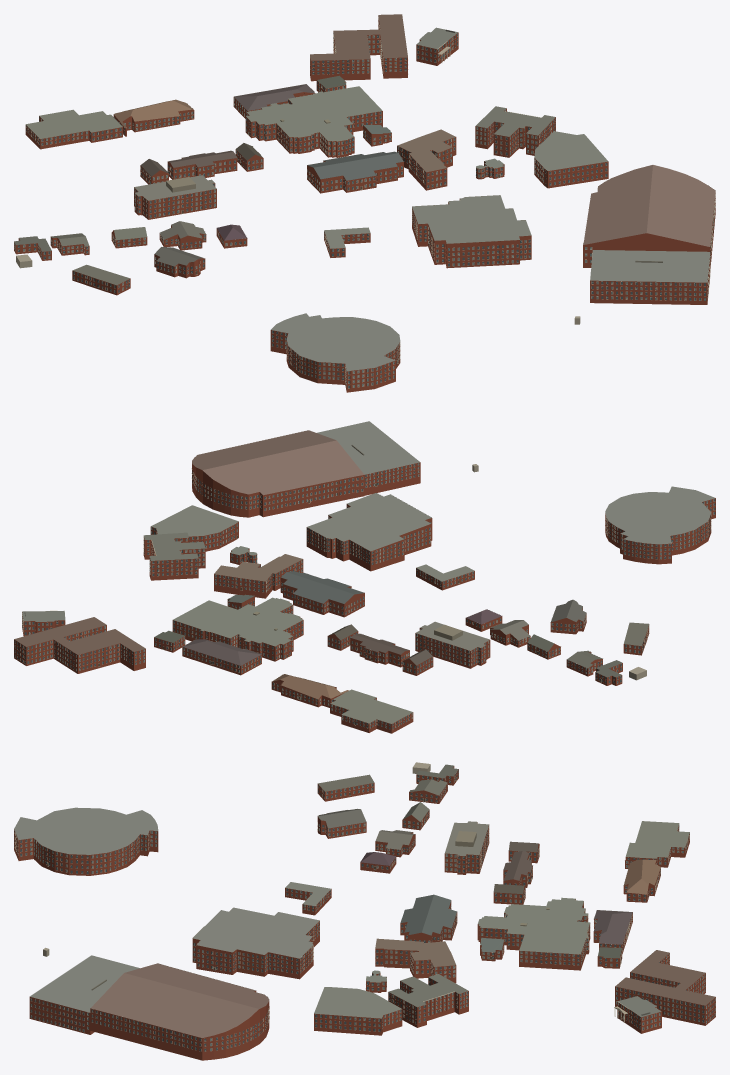
3 renders of one model, top to bottom at view 1: azimuth 30°, elevation 25°; view 2: azimuth 150°, elevation 25°; view 3: azimuth 270°, elevation 25°, orthographic. The views are drawn at different scales.
Parts seen in each view (by area): view 1: -4_0_135662222_0; view 2: -4_0_135662222_0; view 3: -4_0_135662222_0.
Boxes of the visible parts, left/top/right/bottom form: -4_0_135662222_0: left=14, top=14, right=715, bottom=392; -4_0_135662222_0: left=14, top=421, right=715, bottom=733; -4_0_135662222_0: left=14, top=762, right=715, bottom=1060.
Bounding box in the file's own units: 531 × 34.65 × 557.
